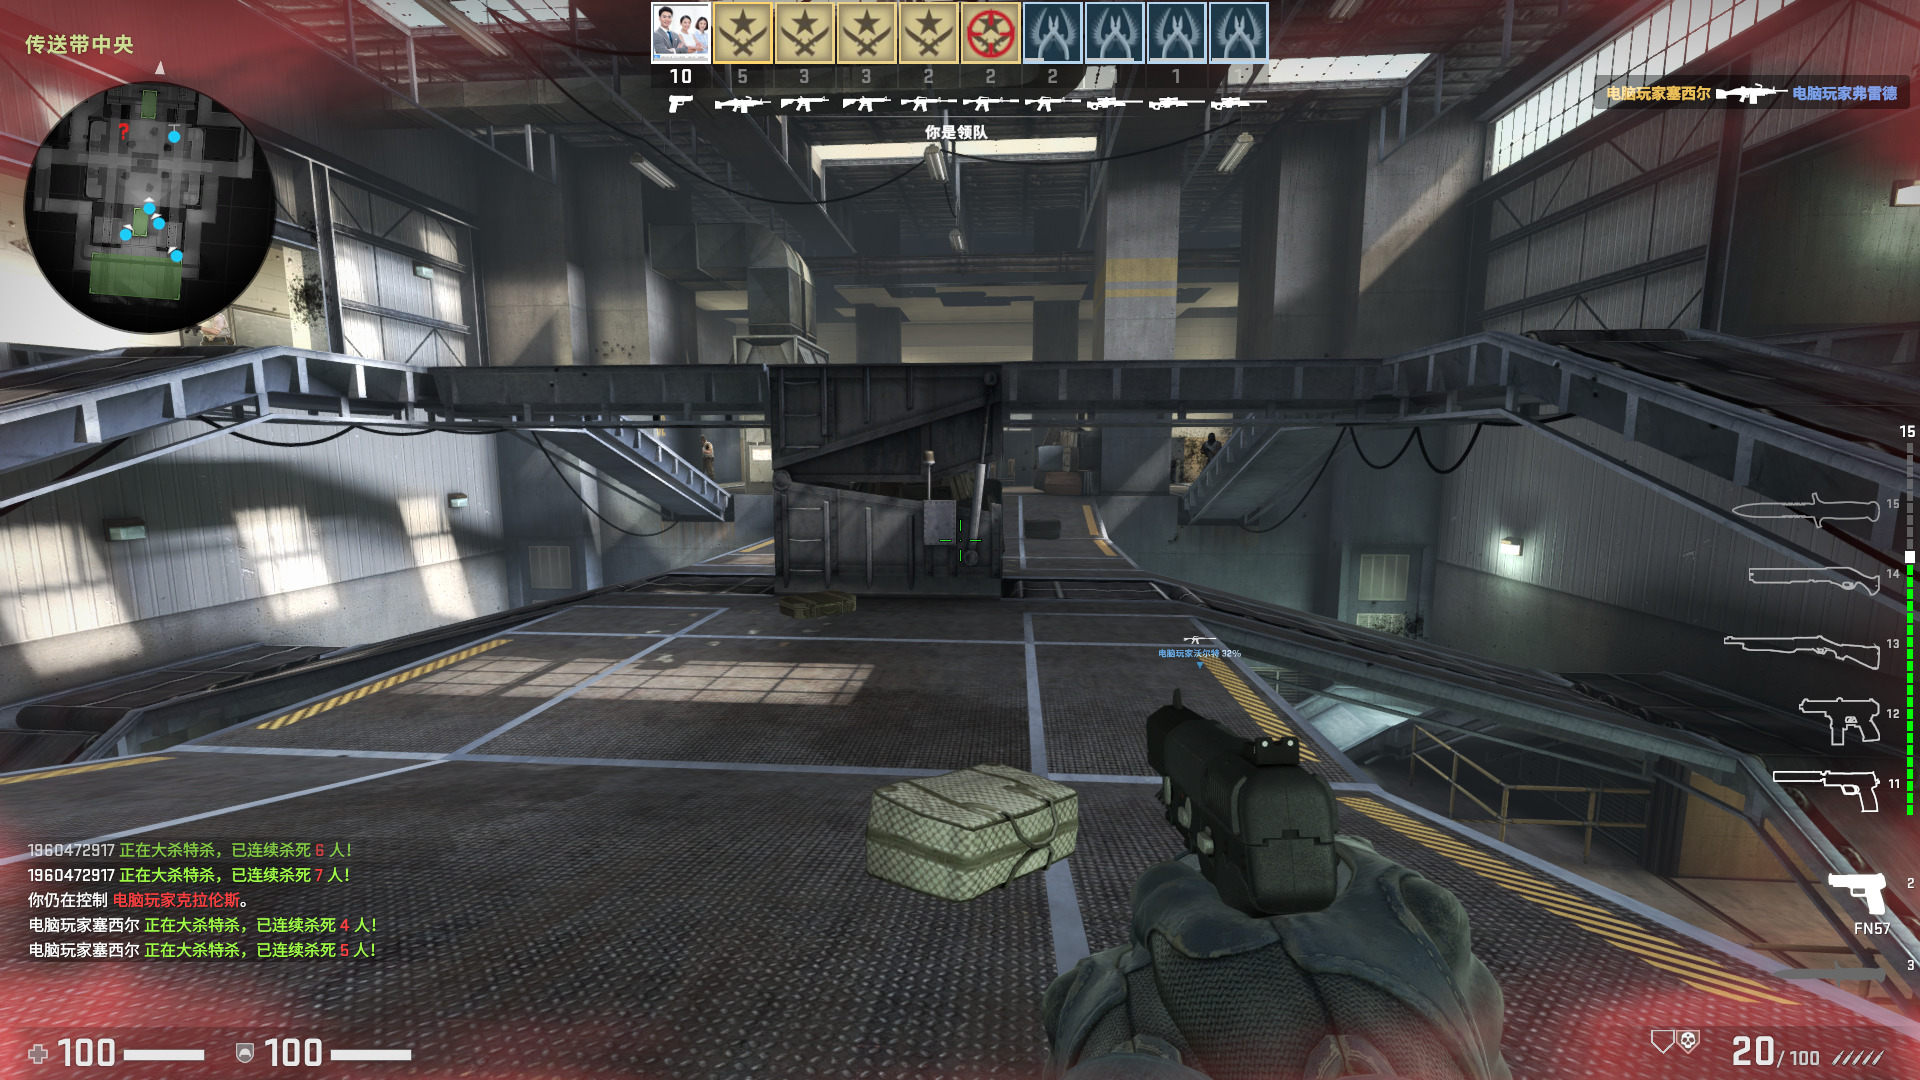person: (692, 434, 715, 475), (1198, 430, 1223, 460)
